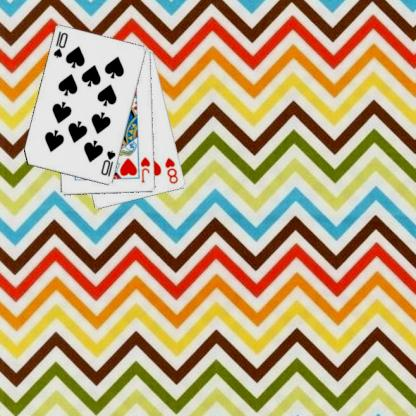10S: (50, 29, 70, 60), (98, 148, 117, 178)
8H: (162, 155, 180, 185)
JH: (138, 154, 152, 184)
